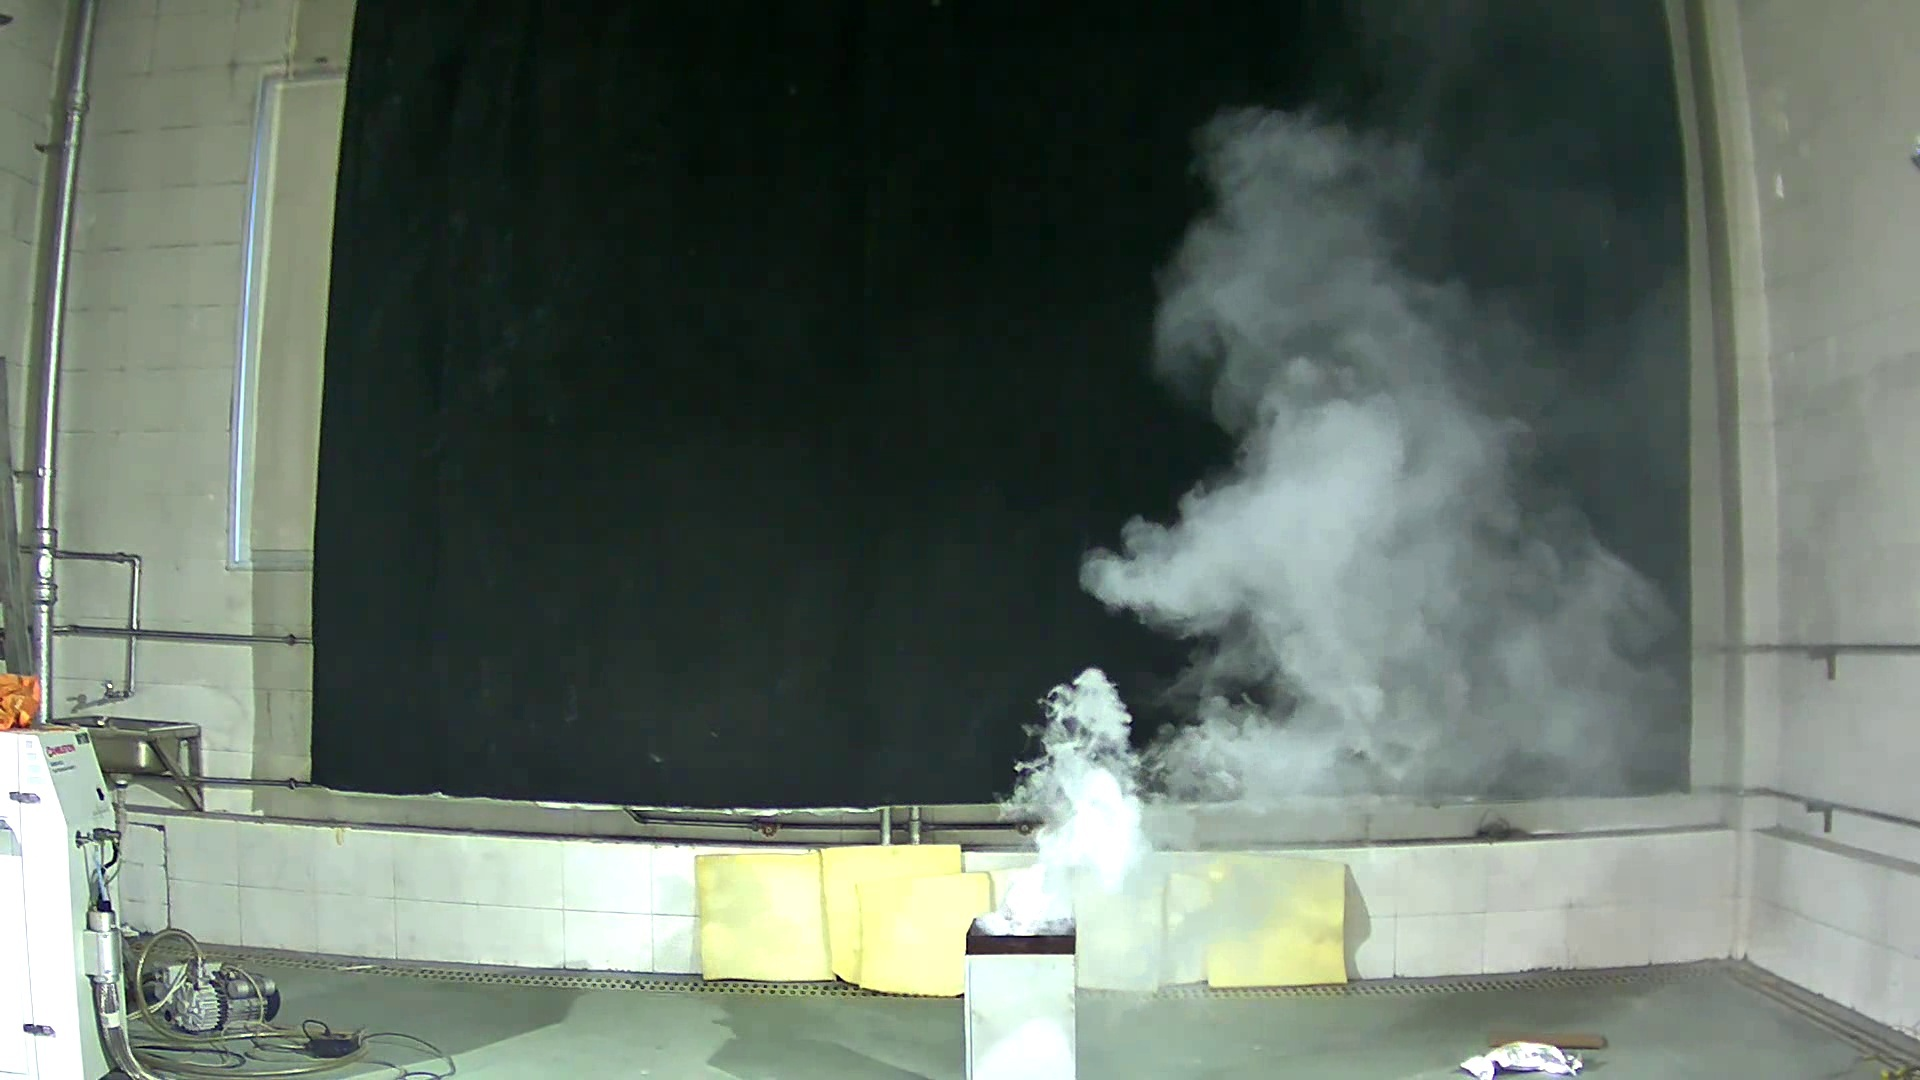smoke: (940, 95, 1700, 891)
